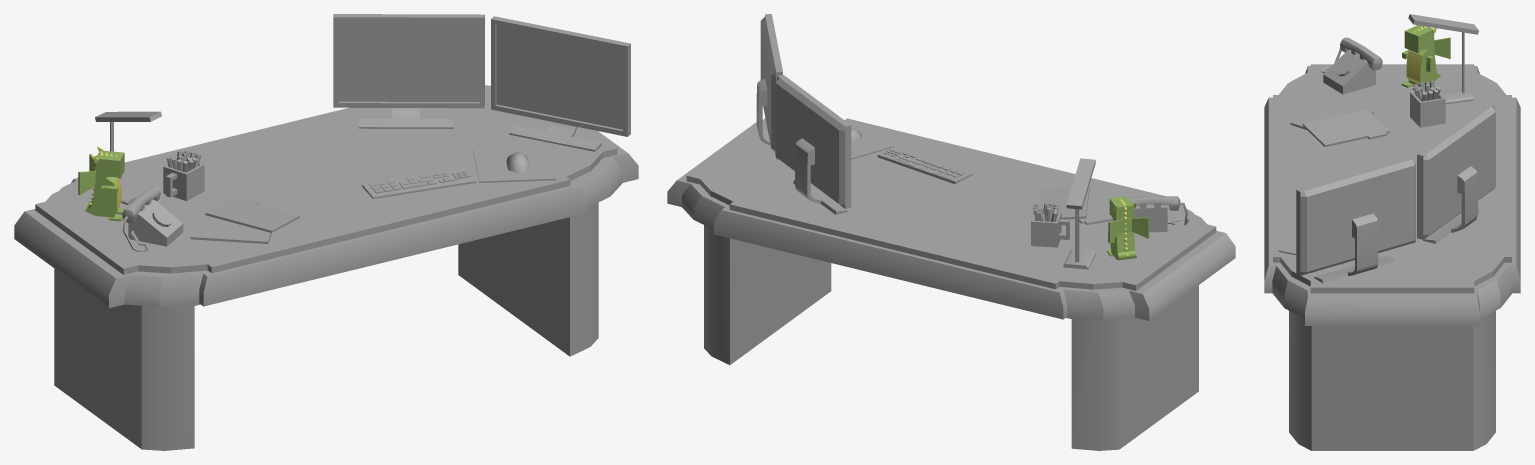
File: SM_BossDesk.fbx
3 renders of one model, left to right at view 1: azimuth 30°, elevation 25°; view 2: azimuth 150°, elevation 25°; view 3: azimuth 270°, elevation 25°, orthographic. The views are drawn at different scales.
Visible parts, largest first — view 1: SM_BossTable, SM_ModernPCLeft, SM_ModernPCRight, SM_OldPhone, SM_DragonToy, SM_MousePad, SM_ModernKeyBoard, SM_SingleFileYellow1, SM_PenMug, SM_SingleFileYellow, SM_NewLamp; view 2: SM_BossTable, SM_ModernPCLeft, SM_ModernPCRight, SM_DragonToy, SM_NewLamp, SM_ModernKeyBoard, SM_PenMug, SM_OldPhone, SM_SingleFileYellow1, SM_SingleFileYellow, SM_MousePad; view 3: SM_BossTable, SM_ModernPCRight, SM_ModernPCLeft, SM_OldPhone, SM_DragonToy, SM_SingleFileYellow1, SM_PenMug, SM_NewLamp, SM_SingleFileYellow.
Boxes of the visible parts, x1=… form: SM_BossTable: x1=14, y1=85, x2=638, y2=450; SM_ModernPCLeft: x1=333, y1=14, x2=484, y2=128; SM_ModernPCRight: x1=491, y1=16, x2=630, y2=151; SM_OldPhone: x1=122, y1=185, x2=183, y2=251; SM_DragonToy: x1=78, y1=146, x2=124, y2=221; SM_MousePad: x1=473, y1=146, x2=555, y2=182; SM_ModernKeyBoard: x1=362, y1=168, x2=476, y2=198; SM_SingleFileYellow1: x1=205, y1=198, x2=299, y2=232; SM_PenMug: x1=163, y1=151, x2=204, y2=200; SM_SingleFileYellow: x1=190, y1=213, x2=271, y2=243; SM_NewLamp: x1=95, y1=111, x2=161, y2=205; SM_BossTable: x1=667, y1=118, x2=1235, y2=450; SM_ModernPCLeft: x1=775, y1=74, x2=851, y2=214; SM_ModernPCRight: x1=756, y1=14, x2=782, y2=159; SM_DragonToy: x1=1107, y1=196, x2=1149, y2=260; SM_NewLamp: x1=1063, y1=158, x2=1095, y2=269; SM_ModernKeyBoard: x1=877, y1=146, x2=972, y2=184; SM_PenMug: x1=1031, y1=203, x2=1069, y2=247; SM_OldPhone: x1=1128, y1=196, x2=1189, y2=232; SM_SingleFileYellow1: x1=1040, y1=186, x2=1089, y2=219; SM_SingleFileYellow: x1=1079, y1=187, x2=1113, y2=224; SM_MousePad: x1=849, y1=121, x2=894, y2=159; SM_BossTable: x1=1264, y1=64, x2=1520, y2=450; SM_ModernPCRight: x1=1296, y1=156, x2=1415, y2=283; SM_ModernPCLeft: x1=1417, y1=103, x2=1495, y2=243; SM_OldPhone: x1=1321, y1=37, x2=1382, y2=94; SM_DragonToy: x1=1401, y1=25, x2=1450, y2=89; SM_SingleFileYellow1: x1=1302, y1=109, x2=1389, y2=146; SM_PenMug: x1=1410, y1=80, x2=1445, y2=127; SM_NewLamp: x1=1408, y1=14, x2=1478, y2=104; SM_SingleFileYellow: x1=1290, y1=98, x2=1373, y2=129.
Size of the model in its own units: 283 by 149 by 128.
